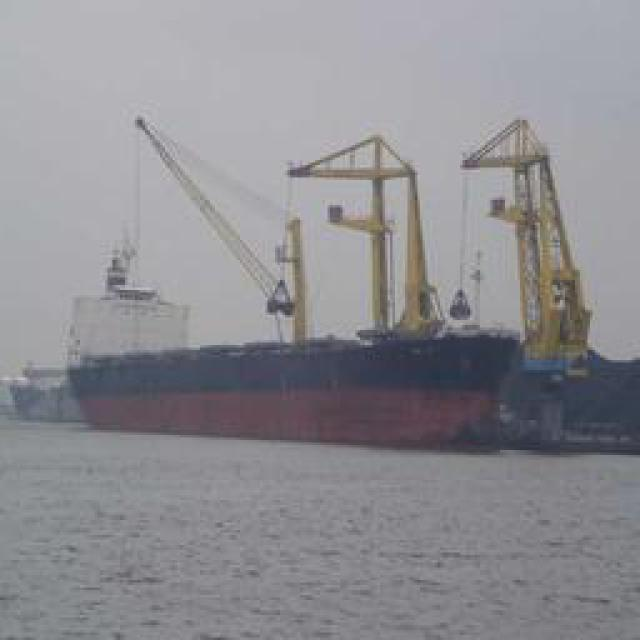Ship: (61, 326, 527, 450)
